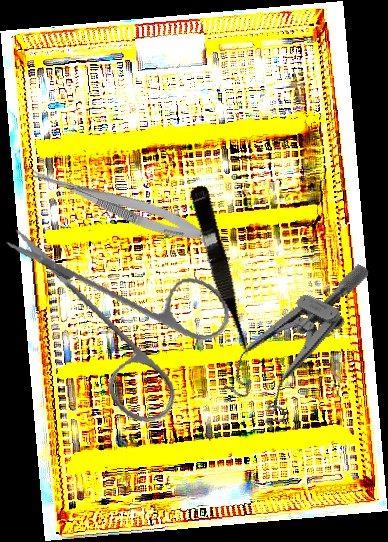Iris Scissors: (3, 197, 246, 441)
Micro Scissor: (19, 161, 211, 249), (184, 183, 256, 362)
Speculum: (215, 234, 371, 440)
